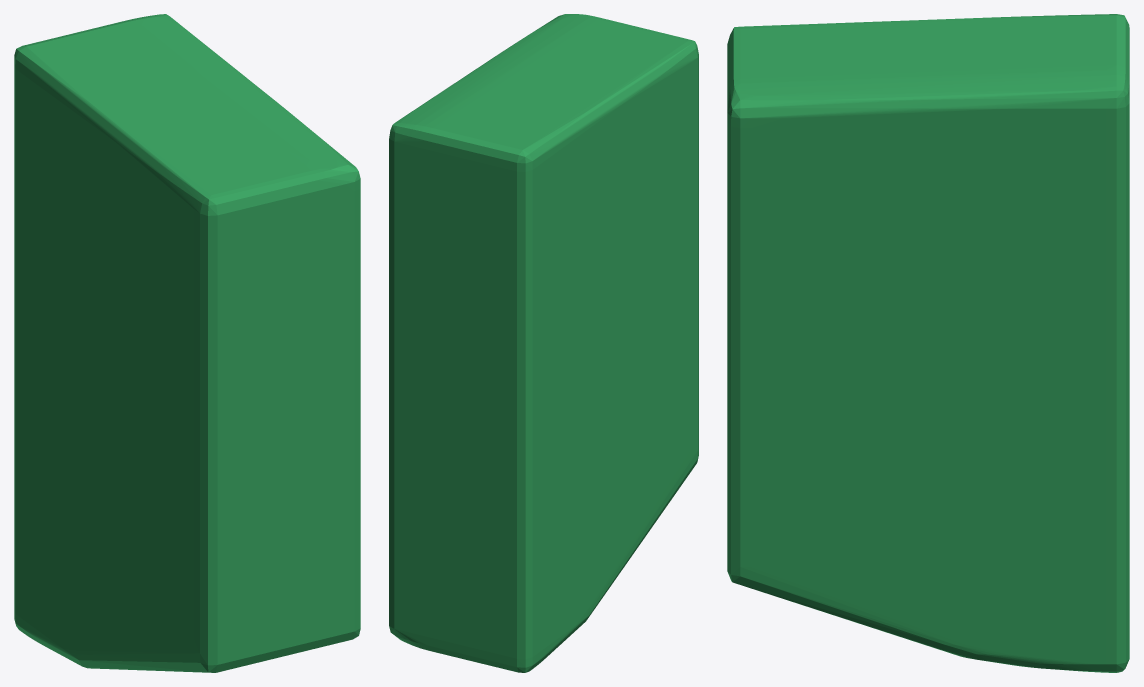
File: left_f_middle_part_10.obj
3 views of the same model, side by side, from view 1: azimuth 30°, elevation 25°; view 2: azimuth 150°, elevation 25°; view 3: azimuth 270°, elevation 25° (orthographic). The views are drawn at different scales.
Bounding box in the file's own units: 4.8 × 16.78 × 10.29.
